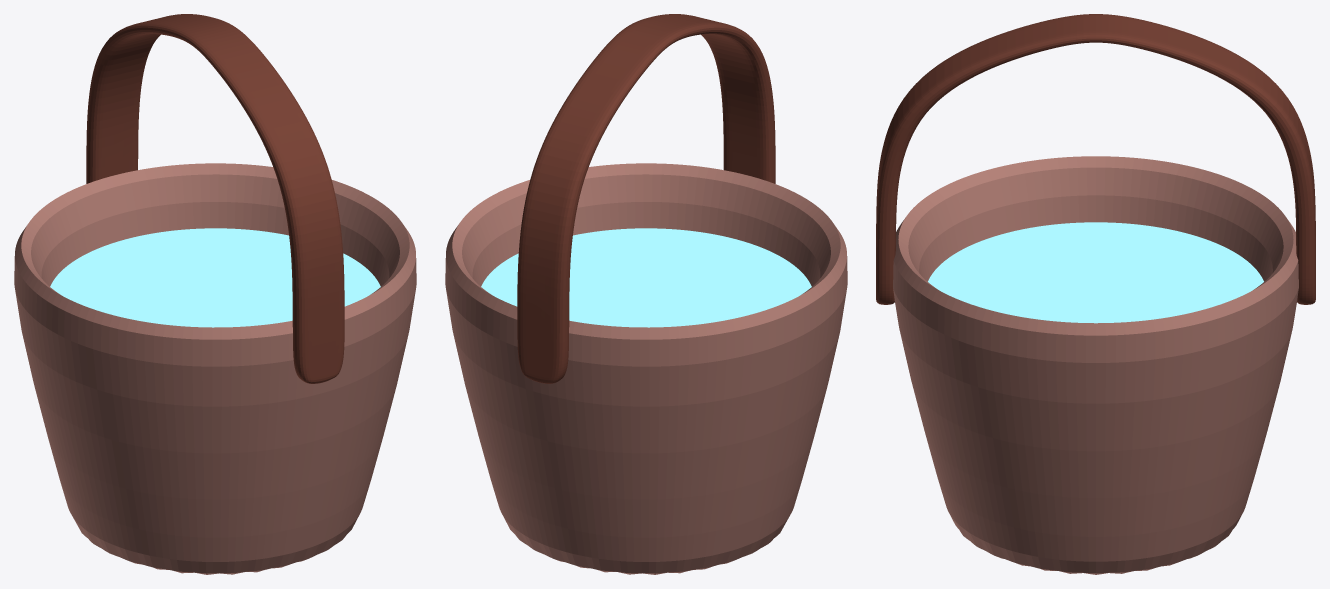
File: bucket.fbx
3 renders of one model, left to right at view 1: azimuth 30°, elevation 25°; view 2: azimuth 150°, elevation 25°; view 3: azimuth 270°, elevation 25°, orthographic.
Parts seen in each view (by area): view 1: Bucket, Handle, Water; view 2: Bucket, Handle, Water; view 3: Bucket, Water, Handle.
Boxes of the visible parts, bbox=[...] form: Bucket: bbox=[14, 163, 416, 574]; Handle: bbox=[86, 14, 344, 383]; Water: bbox=[50, 228, 380, 327]; Bucket: bbox=[445, 163, 847, 574]; Handle: bbox=[517, 14, 775, 383]; Water: bbox=[481, 228, 811, 327]; Bucket: bbox=[893, 156, 1298, 574]; Water: bbox=[928, 222, 1263, 323]; Handle: bbox=[876, 14, 1315, 304].
Bounding box in the file's own units: 55.99 × 74.98 × 60.18.
